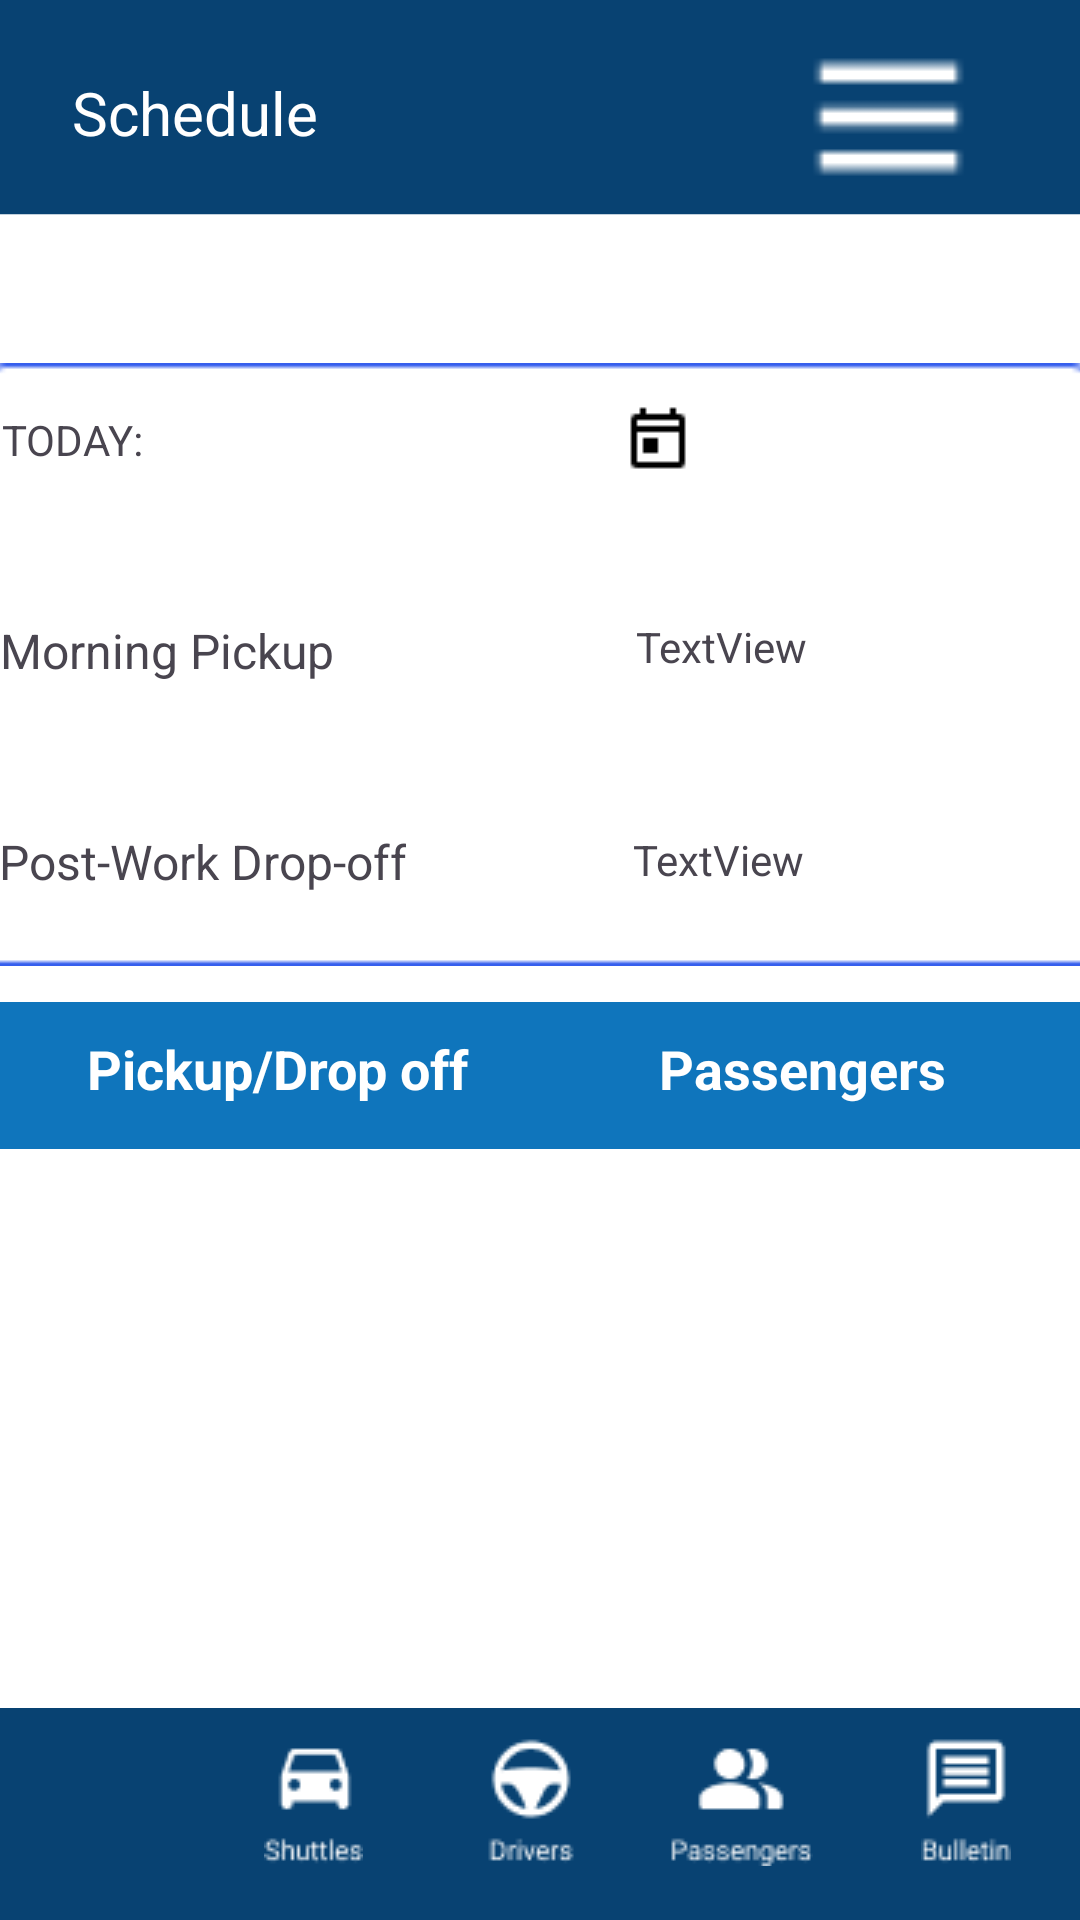

Where icons sit on this 1080w x 1920h app screen, as (x1=x1, y1=y1, x2=x2, y2=y2):
today: (x1=630, y1=407, x2=686, y2=469)
